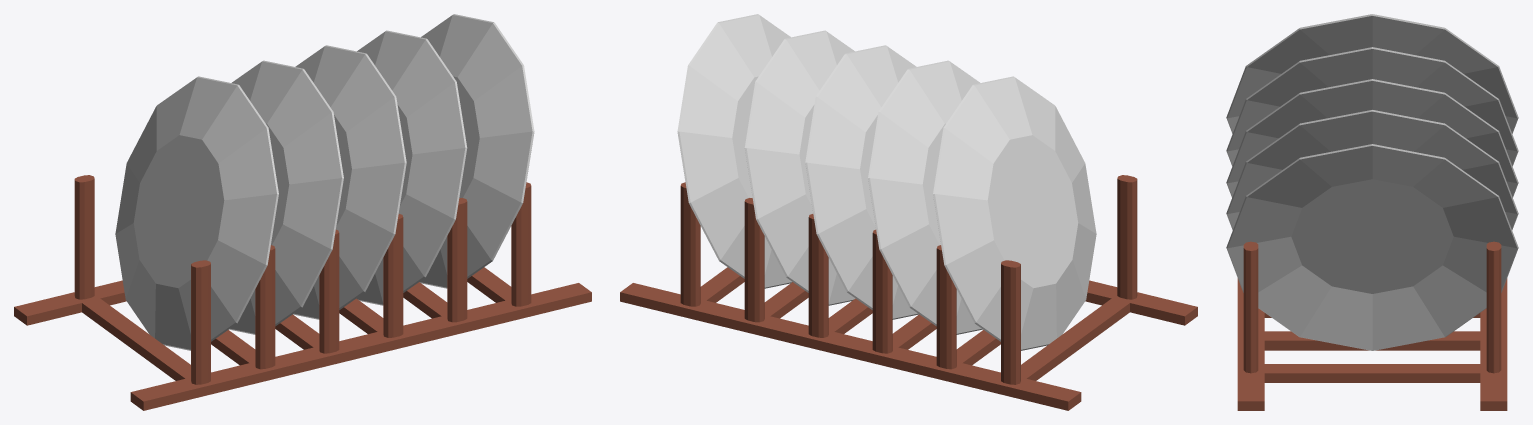
File: Pratos_no_escorredor.fbx
3 renders of one model, left to right at view 1: azimuth 30°, elevation 25°; view 2: azimuth 150°, elevation 25°; view 3: azimuth 270°, elevation 25°, orthographic. The views are drawn at different scales.
Visible parts, largest first — view 1: Cube.520, Circle.011, Circle.012, Circle.010, Circle.008, Circle.009; view 2: Cube.520, Circle.011, Circle.012, Circle.010, Circle.008, Circle.009; view 3: Circle.012, Cube.520, Circle.009, Circle.011, Circle.010, Circle.008.
Boxes of the visible parts, x1,y1,x2,y2 form: Cube.520: [14, 175, 591, 410]; Circle.011: [115, 76, 278, 350]; Circle.012: [420, 14, 534, 288]; Circle.010: [229, 60, 343, 334]; Circle.008: [293, 45, 406, 319]; Circle.009: [356, 30, 467, 305]; Cube.520: [620, 175, 1197, 410]; Circle.011: [933, 76, 1096, 350]; Circle.012: [677, 14, 791, 288]; Circle.010: [868, 60, 982, 334]; Circle.008: [805, 45, 918, 319]; Circle.009: [744, 30, 855, 305]; Circle.012: [1226, 144, 1518, 350]; Cube.520: [1237, 241, 1507, 410]; Circle.009: [1226, 110, 1518, 229]; Circle.011: [1226, 14, 1518, 133]; Circle.010: [1226, 47, 1518, 166]; Circle.008: [1226, 79, 1518, 197].
Bounding box in the file's own units: 144 × 73.56 × 78.03.
